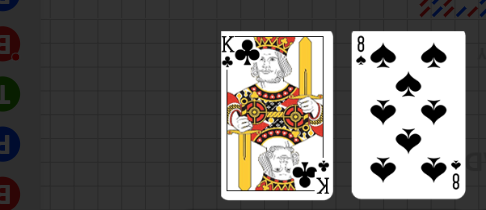8S: (354, 34, 367, 68)
KC: (221, 34, 238, 72)
